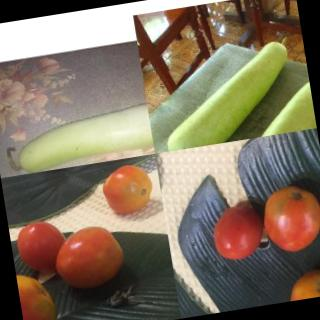Tomat: (200, 175, 320, 274), (48, 211, 137, 306), (12, 213, 78, 286), (95, 160, 159, 224), (17, 268, 68, 320)
